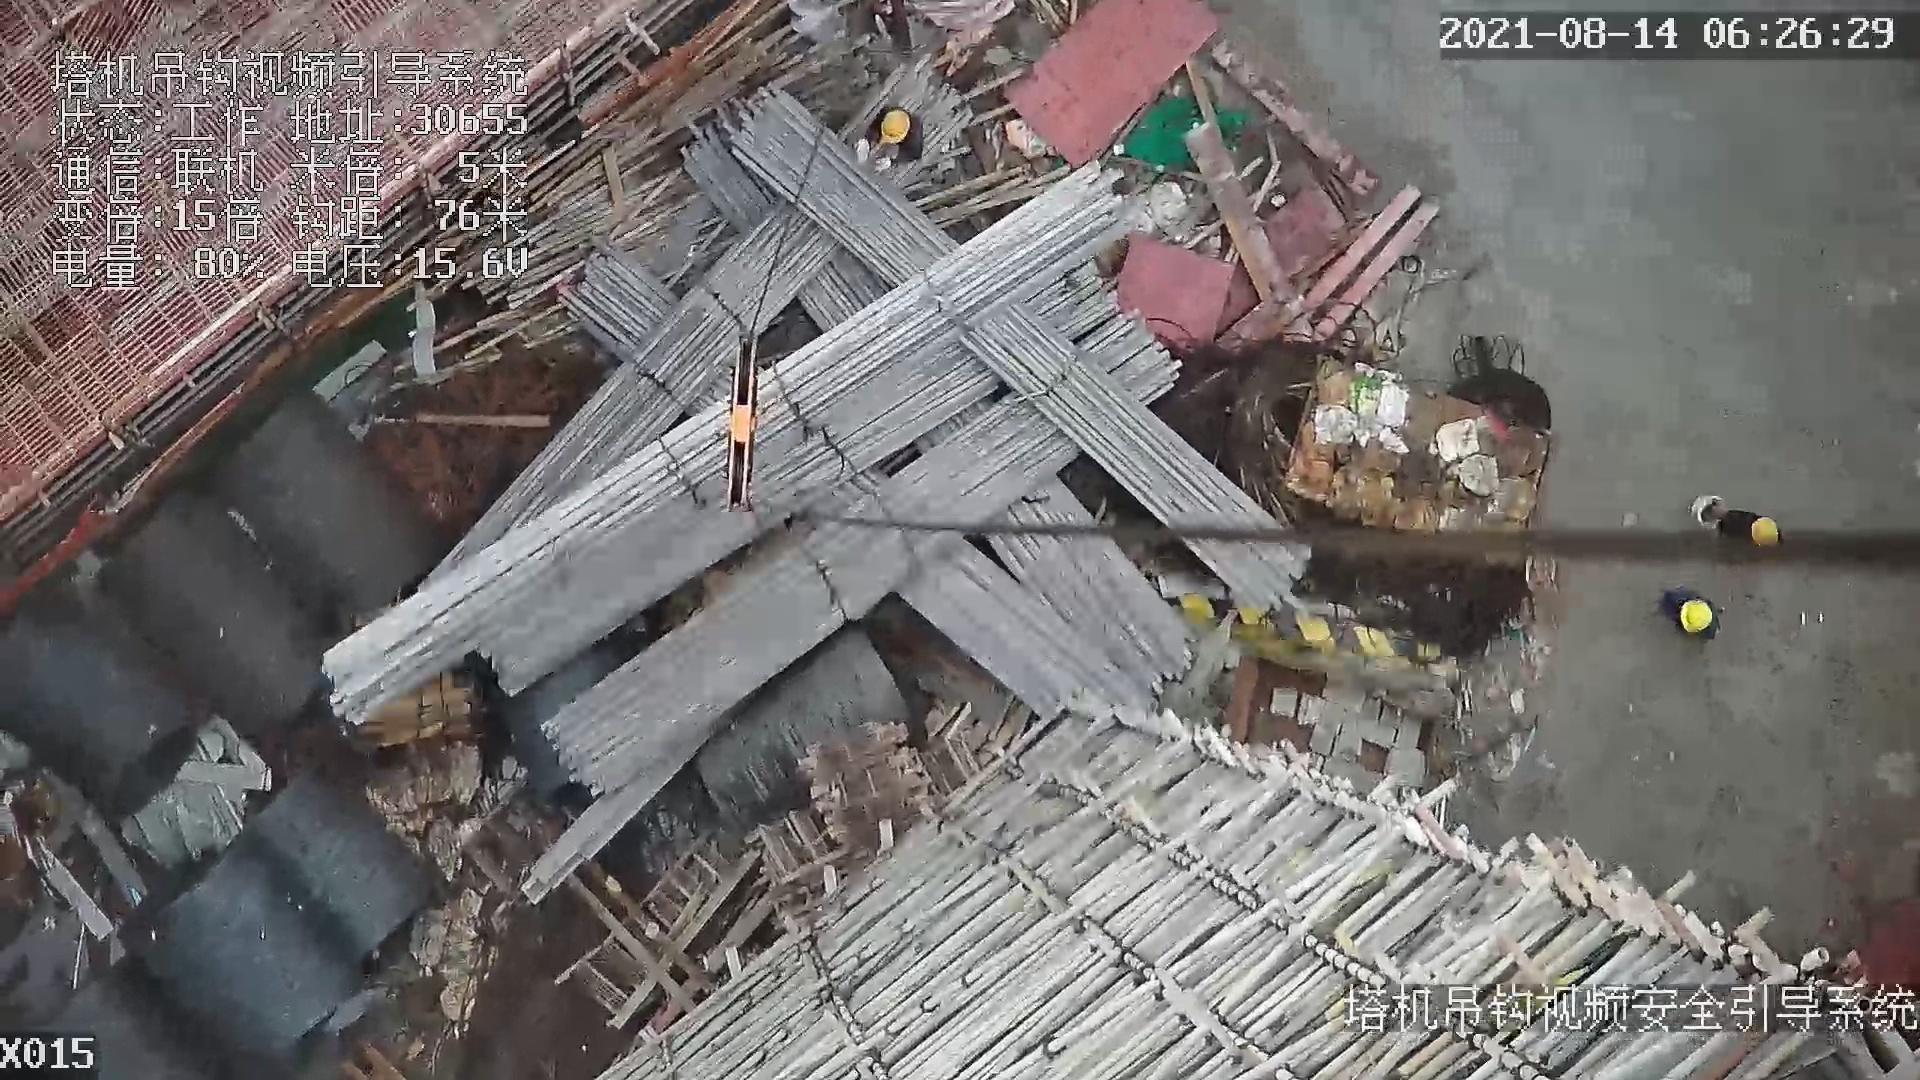helmet: (871, 109, 912, 141), (1681, 598, 1714, 632), (1747, 517, 1782, 549)
hook: (713, 331, 774, 518)
person: (1682, 477, 1787, 549), (856, 104, 926, 177), (1660, 583, 1727, 641)
